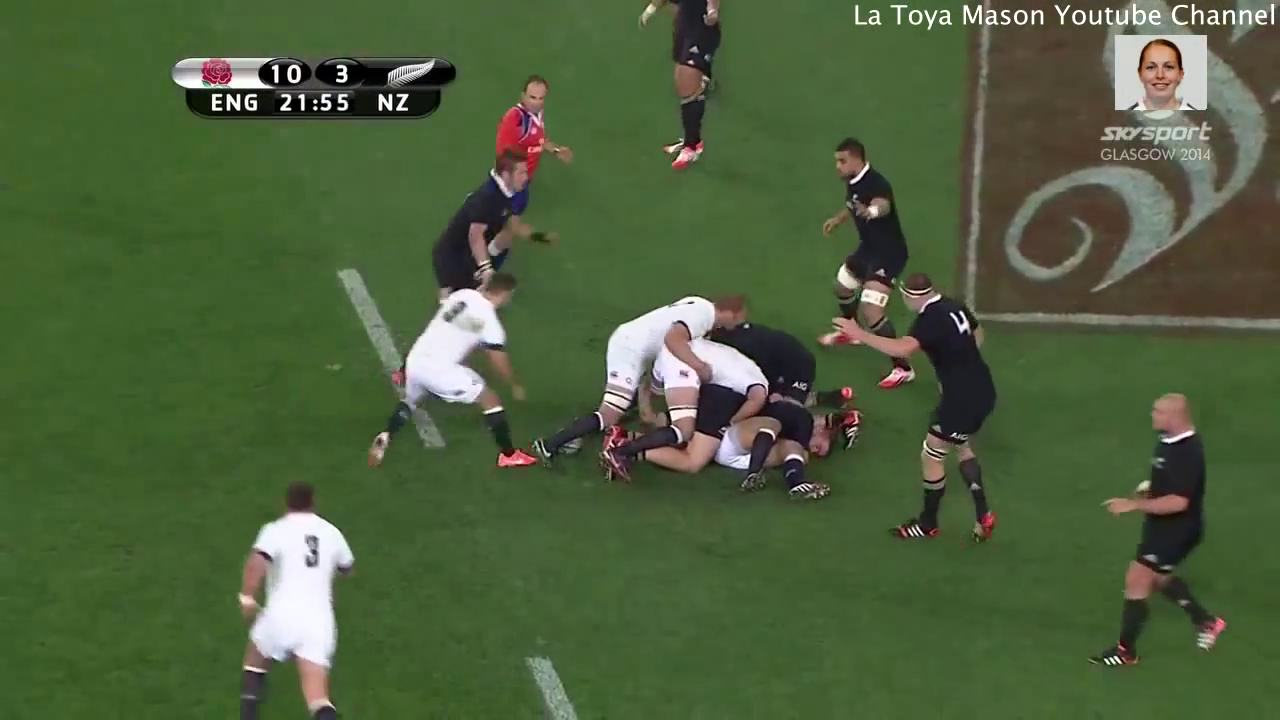player: (827, 268, 1008, 546), (1080, 389, 1234, 672), (538, 288, 745, 474), (362, 269, 540, 478), (216, 479, 361, 720), (817, 132, 923, 392), (599, 341, 762, 480), (426, 149, 543, 294), (637, 1, 731, 172), (721, 314, 820, 408), (492, 74, 565, 179)
ruck: (561, 281, 829, 500)
